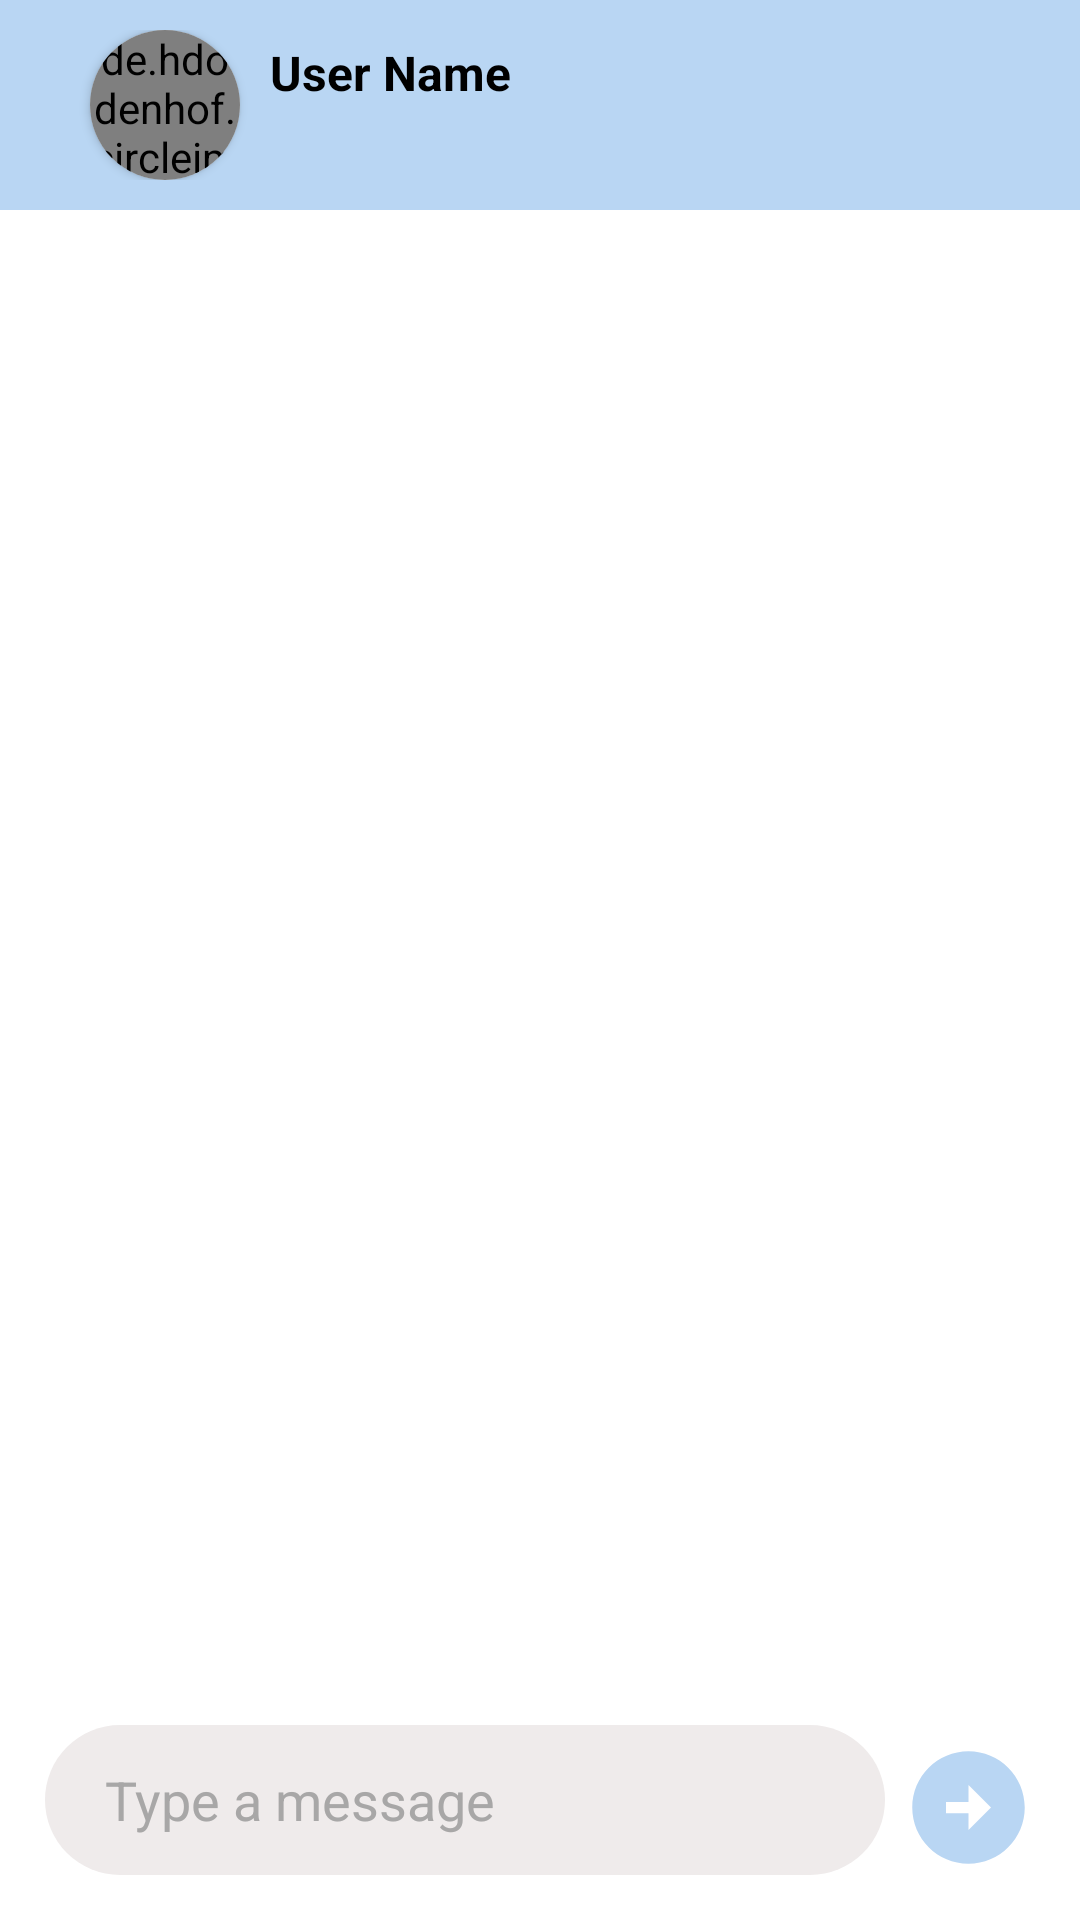

Icons on this 1080 × 1920 Android screen, each with its box as (x1, y1, x2, y2):
arrow circle right: (912, 1751, 1025, 1864)
